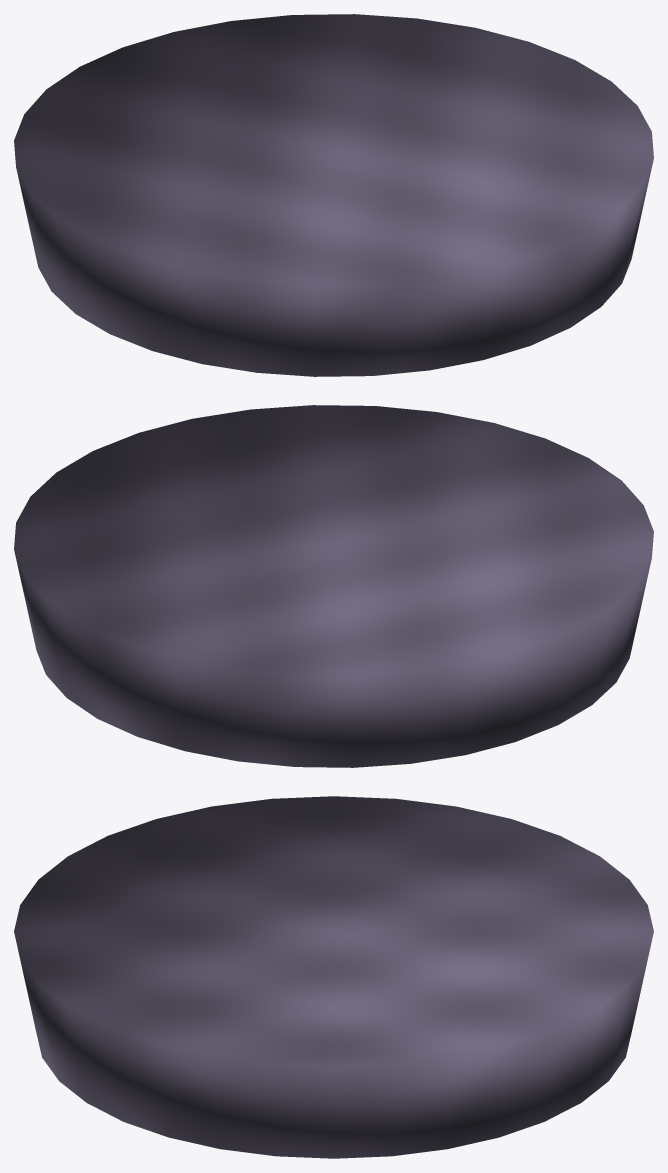
Rendered from stepping_stone.glb.
3 views of the same model, one above another, from view 1: azimuth 30°, elevation 25°; view 2: azimuth 150°, elevation 25°; view 3: azimuth 270°, elevation 25° (orthographic).
Parts seen in each view (by area): view 1: stone_base; view 2: stone_base; view 3: stone_base.
Part boxes in pixels (x1,y1,x2,y2): stone_base: [14, 14, 653, 376]; stone_base: [14, 405, 653, 767]; stone_base: [14, 796, 653, 1158].
Size of the model in its own units: 2 by 0.35 by 2.
1 material, 1 textured.
